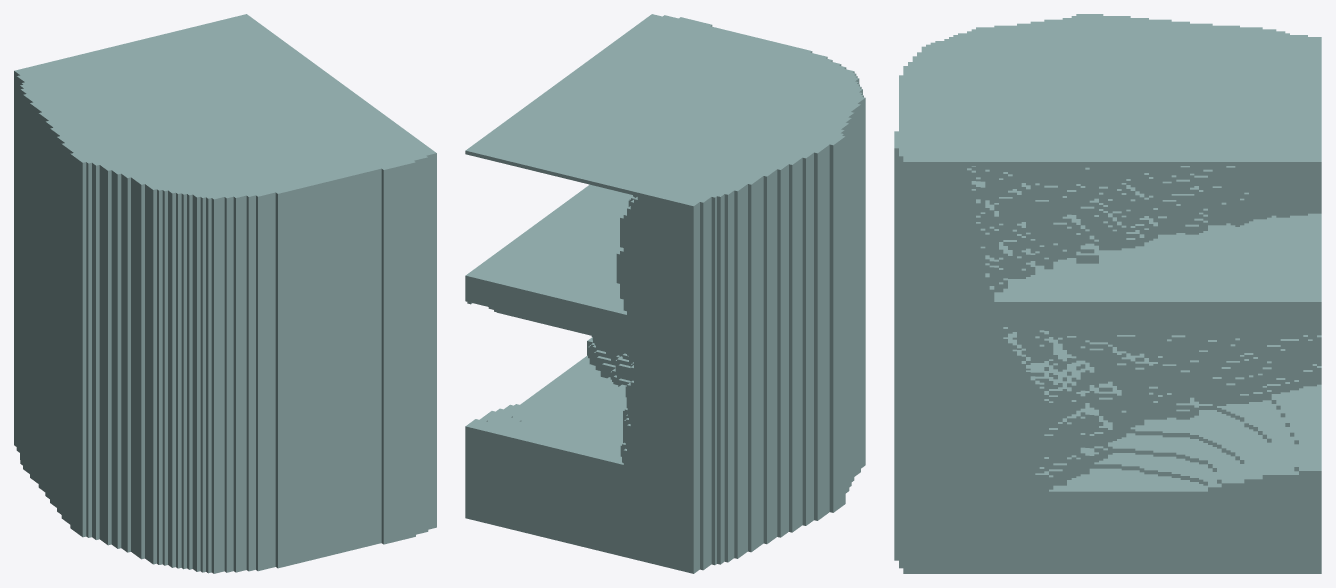
Rendered from TerrainPieces-15.obj.
3 renders of one model, left to right at view 1: azimuth 30°, elevation 25°; view 2: azimuth 150°, elevation 25°; view 3: azimuth 270°, elevation 25°, orthographic. The views are drawn at different scales.
Parts seen in each view (by area): view 1: TerrainPieces-15; view 2: TerrainPieces-15; view 3: TerrainPieces-15.
Boxes of the visible parts, x1=… form: TerrainPieces-15: x1=14, y1=14, x2=436, y2=573; TerrainPieces-15: x1=465, y1=14, x2=865, y2=573; TerrainPieces-15: x1=894, y1=14, x2=1321, y2=573.
Size of the model in its own units: 77 by 100 by 94.
Materials: 1 (1 with a texture image).
